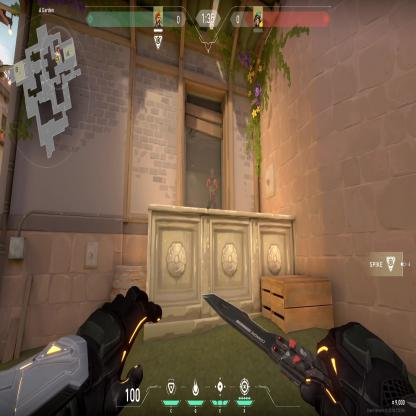enemy: (206, 168, 218, 209)
